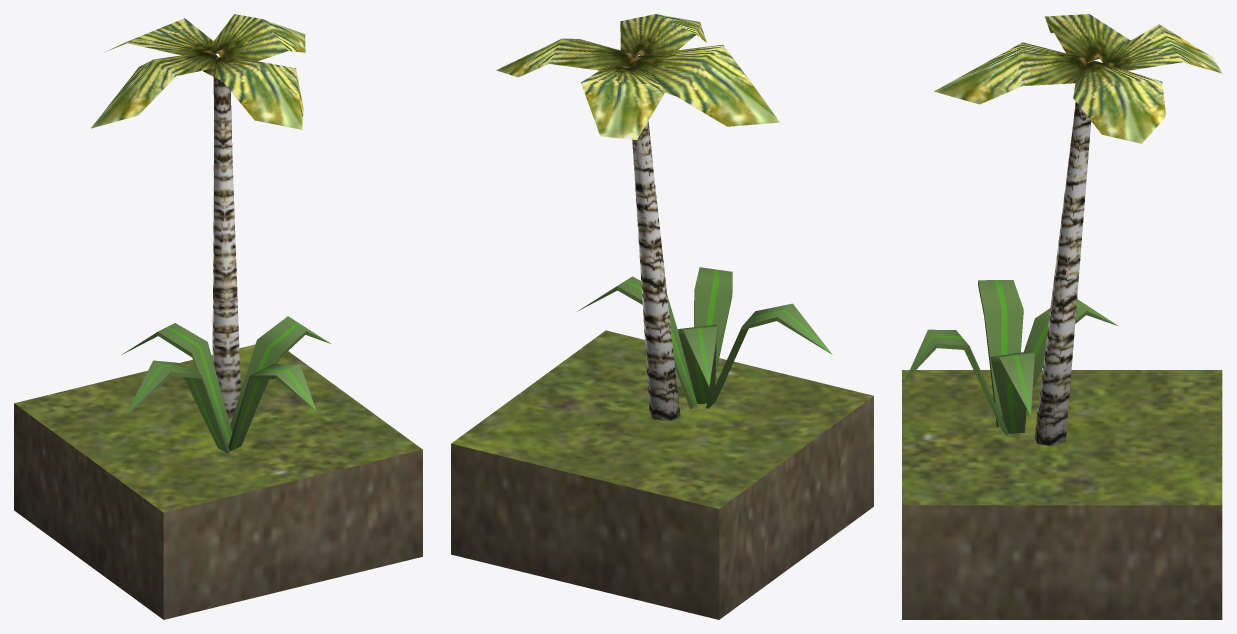
Rendered from jun_boundary_tree_plant.obj.
The picture shows the model from 3 angles, left to right: view 1: azimuth 30°, elevation 25°; view 2: azimuth 150°, elevation 25°; view 3: azimuth 270°, elevation 25°; orthographic projection. The views are drawn at different scales.
Visible parts, largest first — view 1: grass_earth_1; view 2: grass_earth_1; view 3: grass_earth_1.
Part boxes in pixels (left/top/right/bottom): grass_earth_1: left=14, top=14, right=422, bottom=619; grass_earth_1: left=451, top=14, right=873, bottom=619; grass_earth_1: left=902, top=14, right=1222, bottom=619.
Size of the model in its own units: 1 by 1.77 by 1.
1 material, 1 textured.
